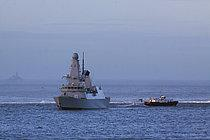MIL_Ship: (53, 50, 112, 110)
